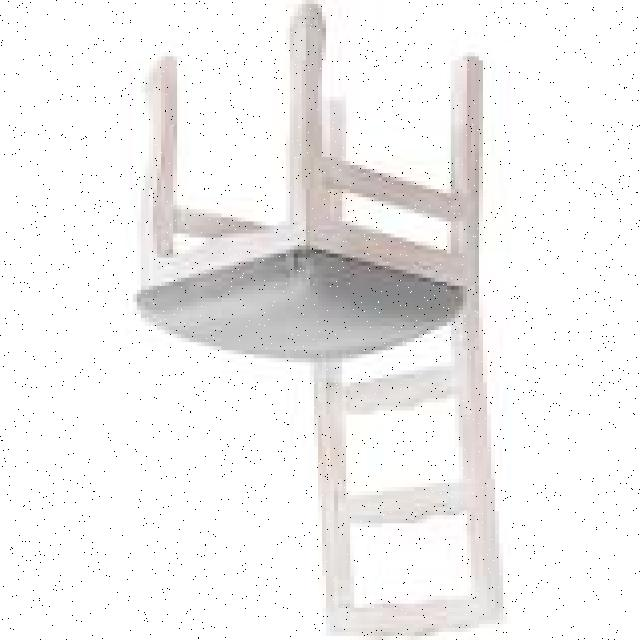bottle: (137, 8, 506, 636)
